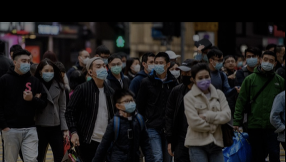with_mask: (91, 61, 109, 79), (195, 72, 212, 91), (121, 96, 137, 114), (260, 55, 276, 71), (17, 57, 32, 73), (153, 59, 167, 75), (42, 66, 55, 82), (179, 70, 192, 86), (109, 60, 122, 75), (245, 52, 258, 67), (169, 65, 181, 79), (213, 57, 224, 70), (146, 57, 155, 72), (99, 54, 111, 65), (80, 54, 92, 65), (132, 61, 142, 72)
without_mask: (224, 59, 237, 69)
